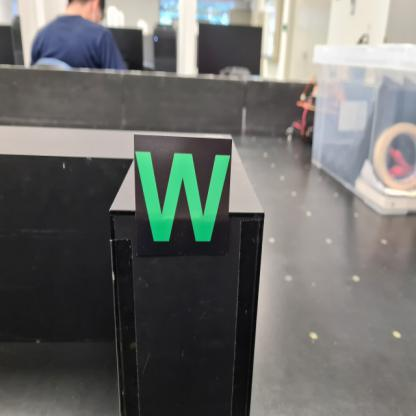w: (134, 135, 233, 258)
